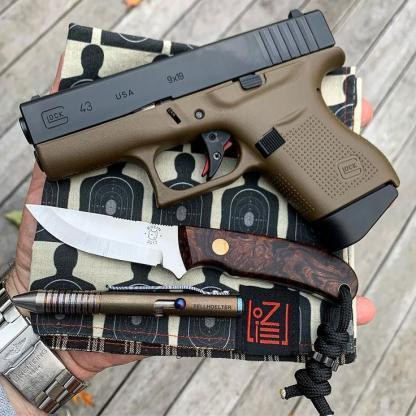Knife: (25, 202, 359, 305)
Pistol: (17, 7, 401, 252)
